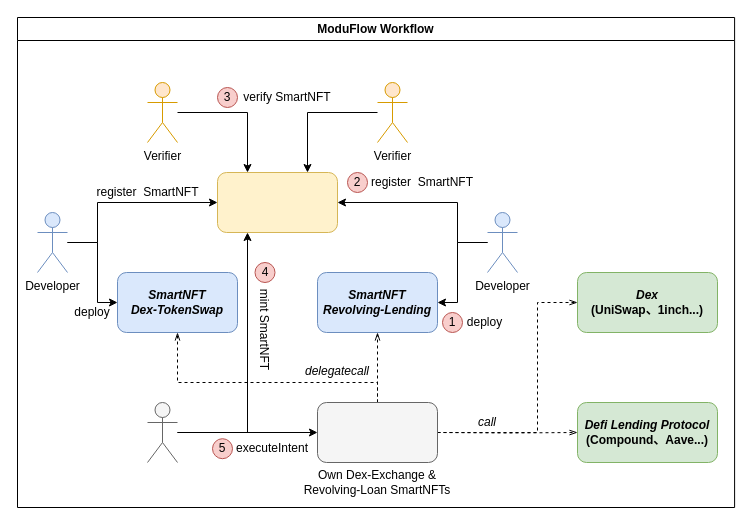
This 753x525 diagram has some shape labels left out. Each missing label, with the centre of its shape:
Intent-Abstract Account: pixel 377 432
SmartNFT Manager: pixel 277 202
User: pixel 162 432
